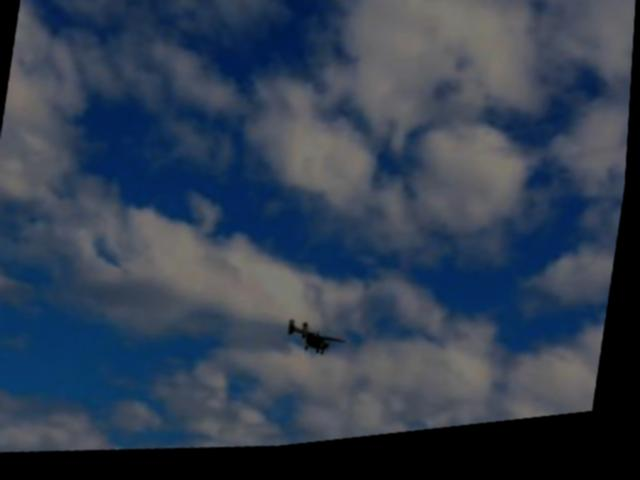uav: (284, 323, 353, 370)
